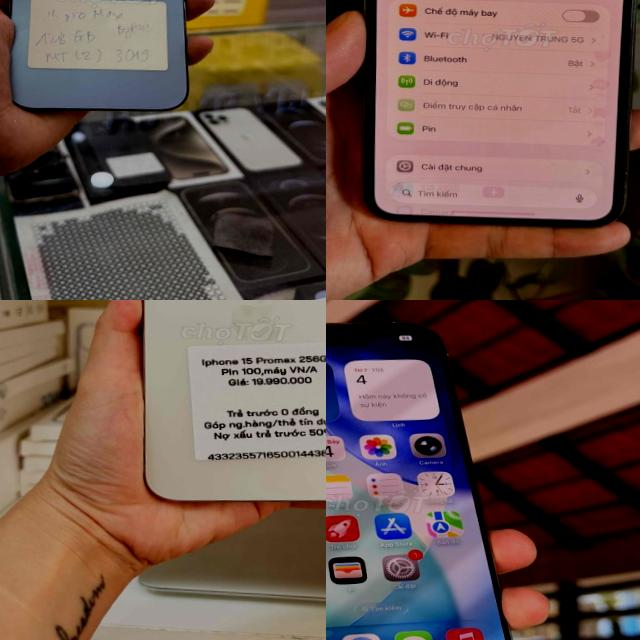gen_11: (349, 0, 640, 237)
gen_12_13: (7, 0, 196, 118)
gen_15: (116, 300, 326, 527)
gen_16: (326, 314, 527, 640)
